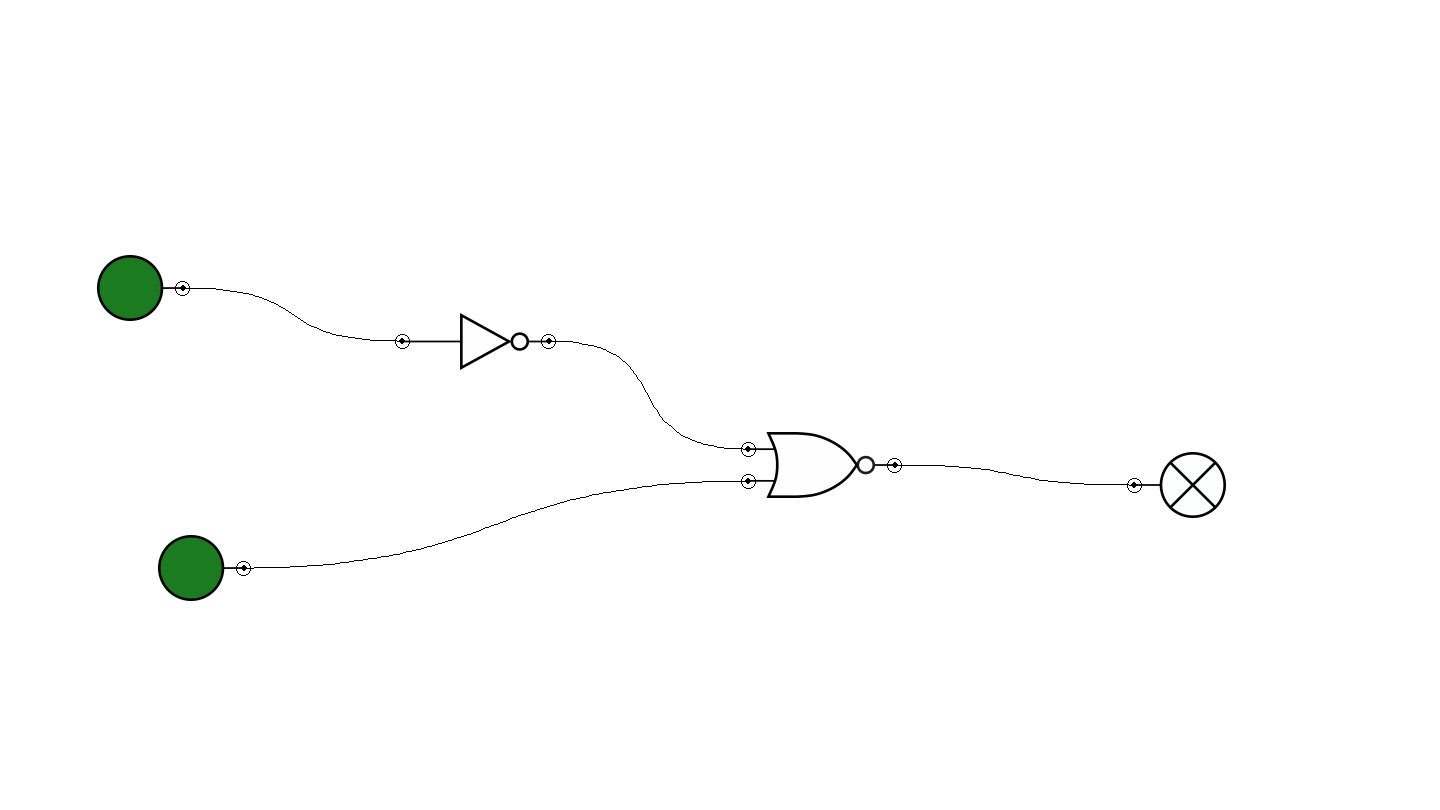bulb: (1127, 452, 1226, 518)
nor: (741, 432, 902, 498)
not: (395, 313, 556, 370)
switch_True: (97, 255, 190, 321), (158, 535, 251, 601)
